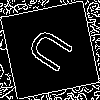U: (25, 25, 83, 80)
